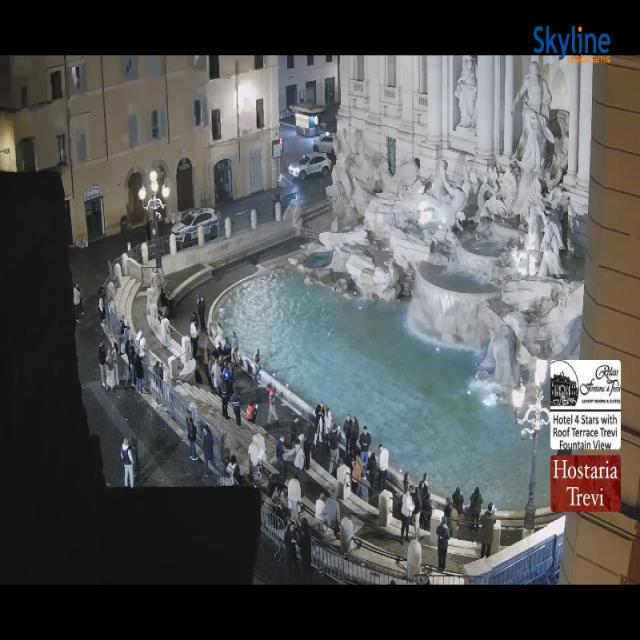person: (279, 424, 308, 477), (267, 472, 297, 518), (289, 418, 311, 469), (287, 435, 304, 497), (290, 418, 313, 462), (298, 518, 311, 583), (268, 473, 287, 517), (219, 356, 241, 394), (480, 503, 495, 558), (416, 483, 432, 531), (289, 418, 312, 451), (401, 486, 414, 544), (436, 517, 450, 570), (284, 522, 298, 574), (99, 291, 117, 331), (419, 475, 432, 530), (100, 289, 117, 331), (294, 435, 305, 499), (284, 502, 301, 543), (121, 337, 134, 387), (120, 438, 133, 488), (290, 418, 311, 448), (133, 344, 146, 392), (284, 419, 304, 450), (326, 491, 340, 535), (226, 455, 245, 486), (287, 482, 302, 521), (470, 488, 483, 532), (328, 425, 339, 476), (203, 425, 214, 476), (249, 450, 264, 487), (188, 409, 205, 441), (124, 336, 135, 385), (117, 317, 131, 355), (115, 317, 129, 355), (187, 410, 197, 461), (412, 488, 422, 539), (350, 456, 363, 495), (284, 497, 302, 525), (295, 443, 304, 497), (194, 297, 207, 334), (291, 419, 311, 443), (103, 297, 117, 331), (378, 444, 388, 491), (315, 493, 327, 531), (314, 404, 325, 445), (360, 426, 371, 467), (404, 473, 419, 503), (117, 328, 129, 365), (290, 418, 309, 441), (215, 338, 230, 367), (134, 351, 144, 394), (276, 435, 286, 478), (128, 332, 136, 385), (291, 419, 306, 447), (323, 404, 334, 442), (129, 333, 137, 385), (211, 323, 223, 357), (274, 493, 285, 530), (200, 323, 215, 350), (105, 345, 114, 390), (212, 343, 227, 370), (343, 415, 352, 459), (366, 452, 377, 487), (98, 339, 106, 387), (268, 386, 278, 424), (343, 415, 352, 457), (358, 473, 371, 502), (212, 359, 222, 396), (302, 435, 312, 471), (321, 404, 330, 443), (230, 390, 240, 425), (204, 336, 211, 385), (220, 380, 229, 418), (449, 504, 459, 538), (352, 457, 365, 483), (344, 415, 352, 457), (350, 417, 359, 454), (224, 362, 234, 395), (314, 404, 322, 444), (319, 403, 327, 443), (119, 315, 131, 341), (112, 342, 119, 385), (452, 488, 463, 515), (190, 322, 198, 358), (303, 423, 316, 445), (160, 289, 170, 317), (198, 297, 206, 332), (222, 364, 231, 395), (161, 289, 174, 310), (324, 405, 332, 439), (206, 322, 216, 349), (74, 284, 81, 322), (208, 353, 215, 391), (204, 328, 213, 357), (75, 283, 83, 315), (304, 419, 315, 442), (345, 450, 359, 468), (232, 464, 244, 485), (76, 284, 84, 315), (226, 456, 238, 476), (212, 335, 221, 361), (163, 292, 173, 315), (232, 332, 239, 364), (254, 350, 261, 382), (246, 402, 257, 422), (228, 362, 235, 392), (153, 360, 163, 381), (152, 360, 163, 379), (223, 337, 231, 363), (419, 473, 428, 496), (215, 322, 223, 347), (194, 419, 204, 439), (100, 288, 108, 312), (99, 291, 105, 323), (118, 315, 127, 336), (212, 338, 221, 358), (190, 325, 197, 350), (315, 403, 323, 424), (190, 311, 199, 329), (157, 364, 163, 391), (211, 343, 220, 361), (444, 498, 452, 518), (145, 216, 151, 242), (108, 299, 116, 318), (343, 415, 352, 431), (128, 331, 135, 349), (129, 332, 136, 348), (418, 575, 430, 584), (415, 575, 427, 584), (422, 473, 428, 490), (404, 472, 409, 492), (99, 286, 105, 297), (390, 579, 395, 584)
